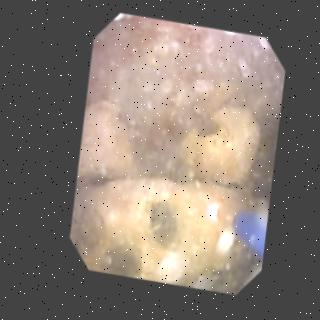fiber: (230, 212, 262, 256)
stone: (68, 180, 252, 291), (174, 107, 257, 185), (75, 100, 127, 179)
tissue: (89, 17, 276, 165)
